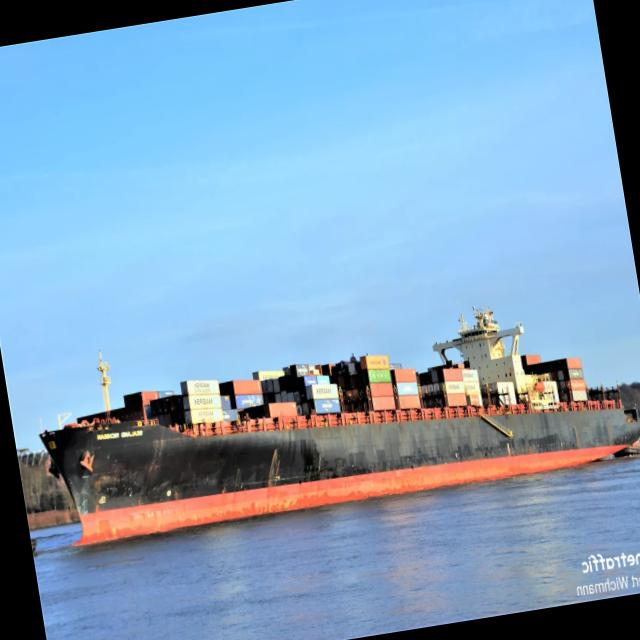Cargo: (41, 308, 640, 543), (98, 359, 111, 407)
Tug: (614, 441, 640, 456)
